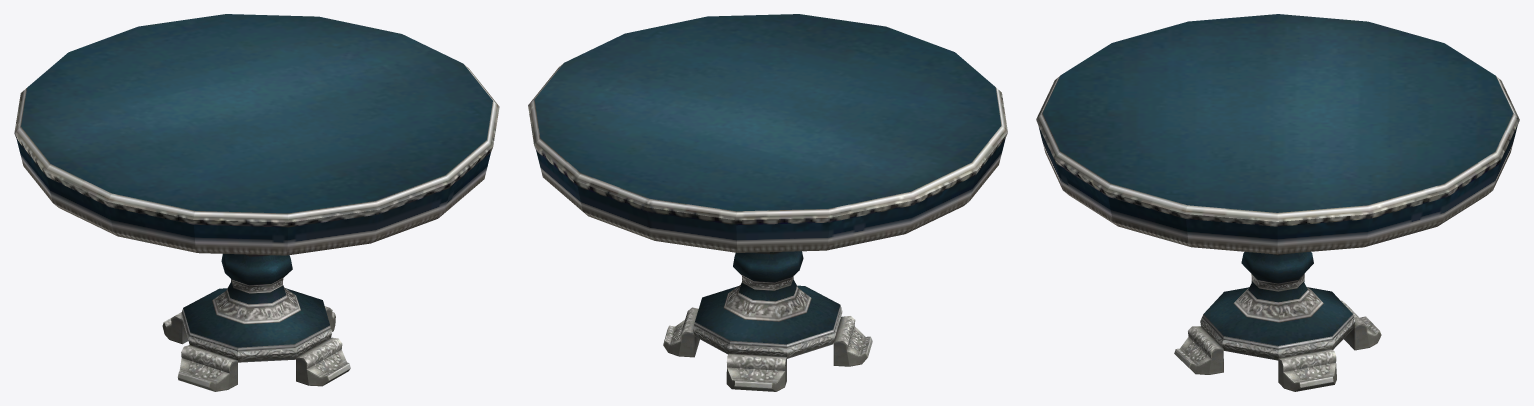
The model's file is furni_0201106_03.FBX.
3 views of the same model, side by side, from view 1: azimuth 30°, elevation 25°; view 2: azimuth 150°, elevation 25°; view 3: azimuth 270°, elevation 25° (orthographic).
Visible parts, largest first — view 1: furni_0201106_03; view 2: furni_0201106_03; view 3: furni_0201106_03.
Boxes of the visible parts, x1=… form: furni_0201106_03: x1=14, y1=14, x2=499, y2=391; furni_0201106_03: x1=528, y1=14, x2=1007, y2=391; furni_0201106_03: x1=1036, y1=14, x2=1519, y2=391.
Size of the model in its own units: 147 by 79.23 by 147.
Materials: 1 (1 with a texture image).
